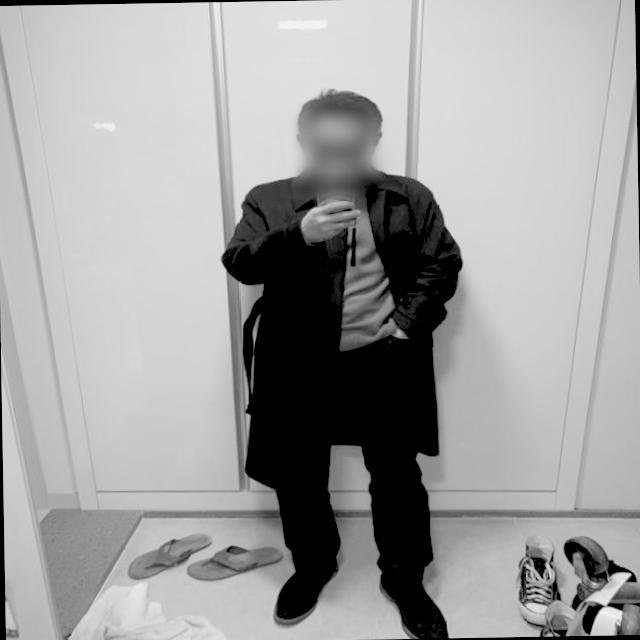coat: (220, 162, 468, 496)
slacks: (269, 330, 435, 570)
